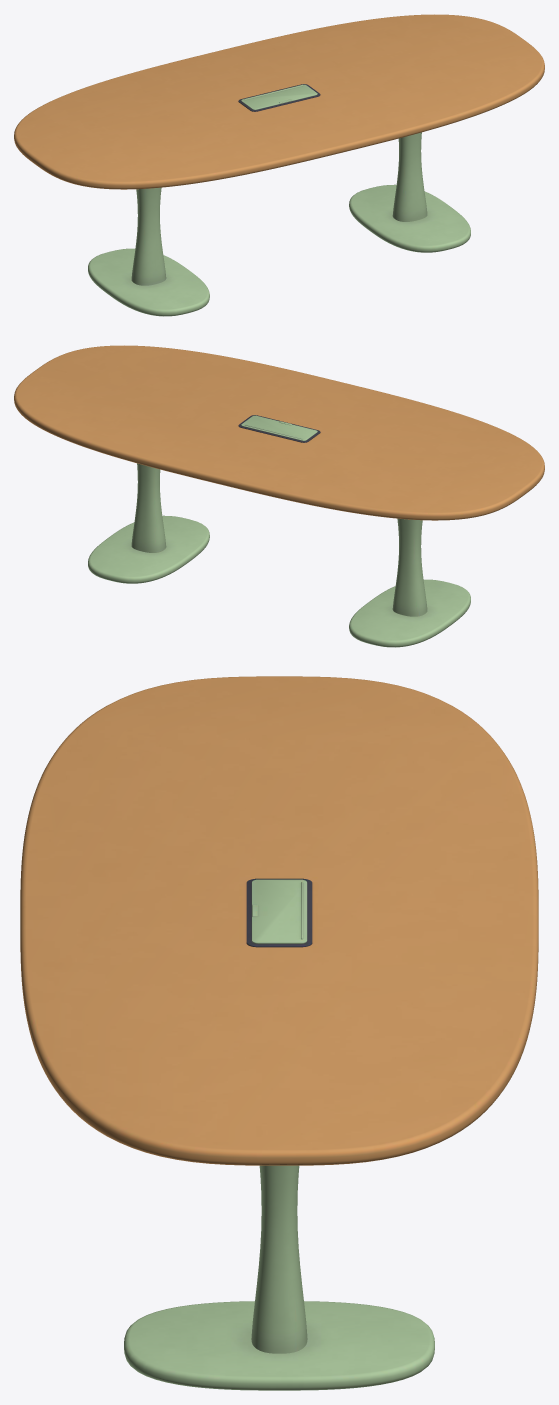
File: meeting-table.glb
3 renders of one model, top to bottom at view 1: azimuth 30°, elevation 25°; view 2: azimuth 150°, elevation 25°; view 3: azimuth 270°, elevation 25°, orthographic. The views are drawn at different scales.
Parts seen in each view (by area): view 1: meeting-table_body; view 2: meeting-table_body; view 3: meeting-table_body.
Boxes of the visible parts, box(x1,y1,x2,y2) form: meeting-table_body: box(14, 14, 544, 316); meeting-table_body: box(14, 345, 544, 647); meeting-table_body: box(20, 676, 538, 1390).
Bounding box in the file's own units: 2.4 × 0.7483 × 1.1.
1 material, 1 textured.
